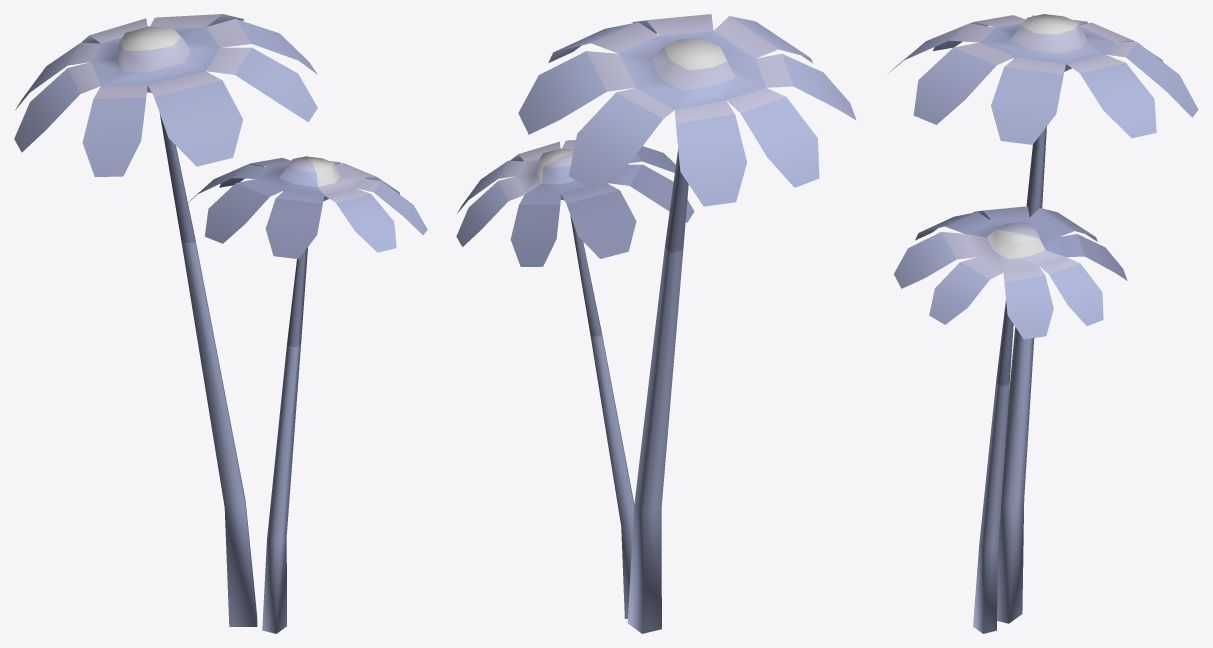
File: Prop_Flower_01.fbx
3 renders of one model, left to right at view 1: azimuth 30°, elevation 25°; view 2: azimuth 150°, elevation 25°; view 3: azimuth 270°, elevation 25°, orthographic. The views are drawn at different scales.
Parts seen in each view (by area): view 1: Model_Plant_Flower_01_Petals, Model_Plant_Flower_01; view 2: Model_Plant_Flower_01_Petals, Model_Plant_Flower_01; view 3: Model_Plant_Flower_01_Petals, Model_Plant_Flower_01.
Part boxes in pixels (box(x1,y1,x2,y2)): Model_Plant_Flower_01_Petals: box(14, 14, 427, 259); Model_Plant_Flower_01: box(160, 114, 307, 633); Model_Plant_Flower_01_Petals: box(456, 14, 856, 266); Model_Plant_Flower_01: box(570, 149, 688, 633); Model_Plant_Flower_01_Petals: box(888, 14, 1198, 339); Model_Plant_Flower_01: box(973, 126, 1046, 633).
Bounding box in the file's own units: 106 × 165 × 83.03.
